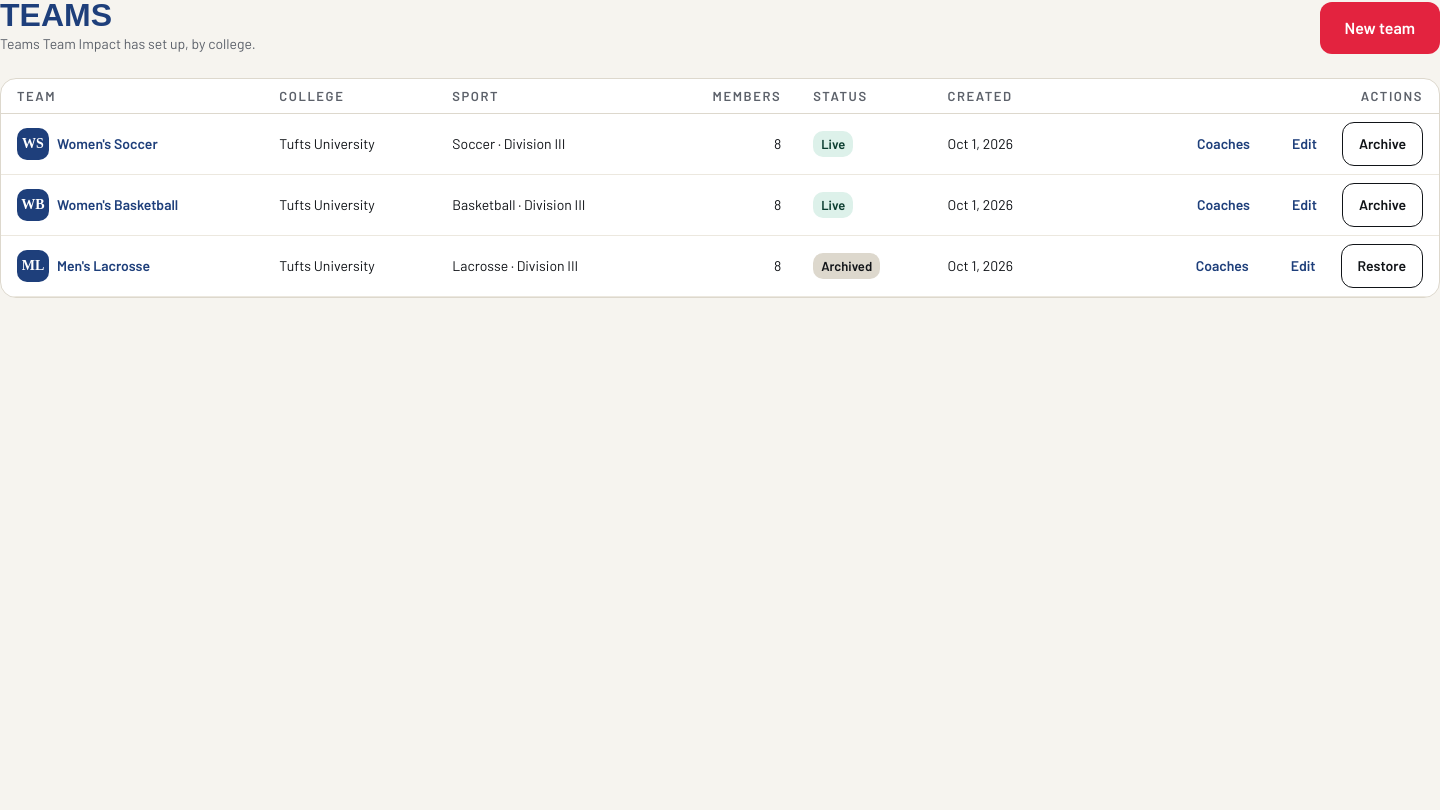
Test: staff teams page: editing a team › shows every field set at creation, filled in
Click the button with aria-label "Edit Women's Soccer": click(1304, 144) top-left (1275, 122), bottom-right (1334, 166)
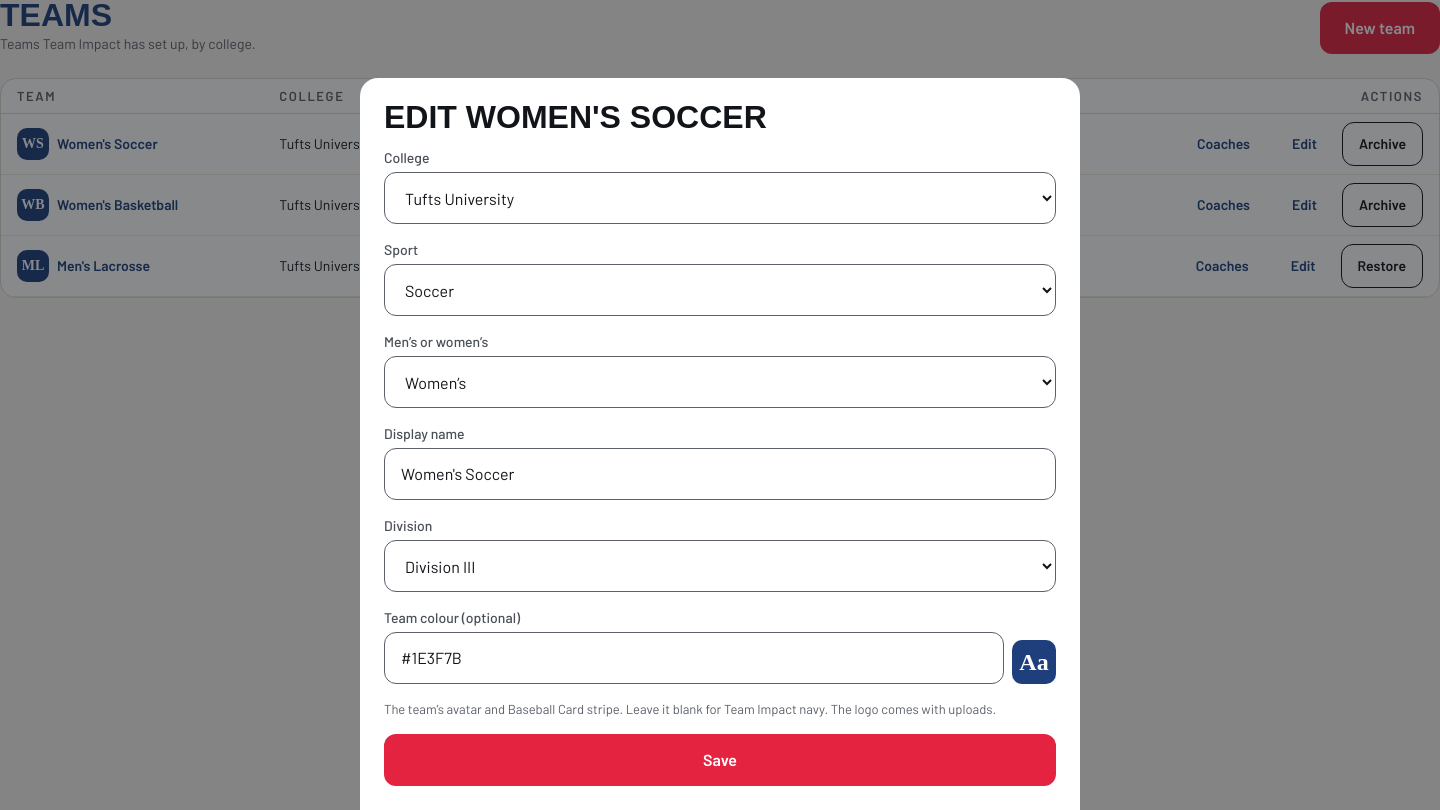
Expected: the text "Women's Soccer" is shown, top-left (57, 134), bottom-right (158, 154)
Expected: the dropdown labelled "College" is shown, top-left (384, 172), bottom-right (1056, 224)
